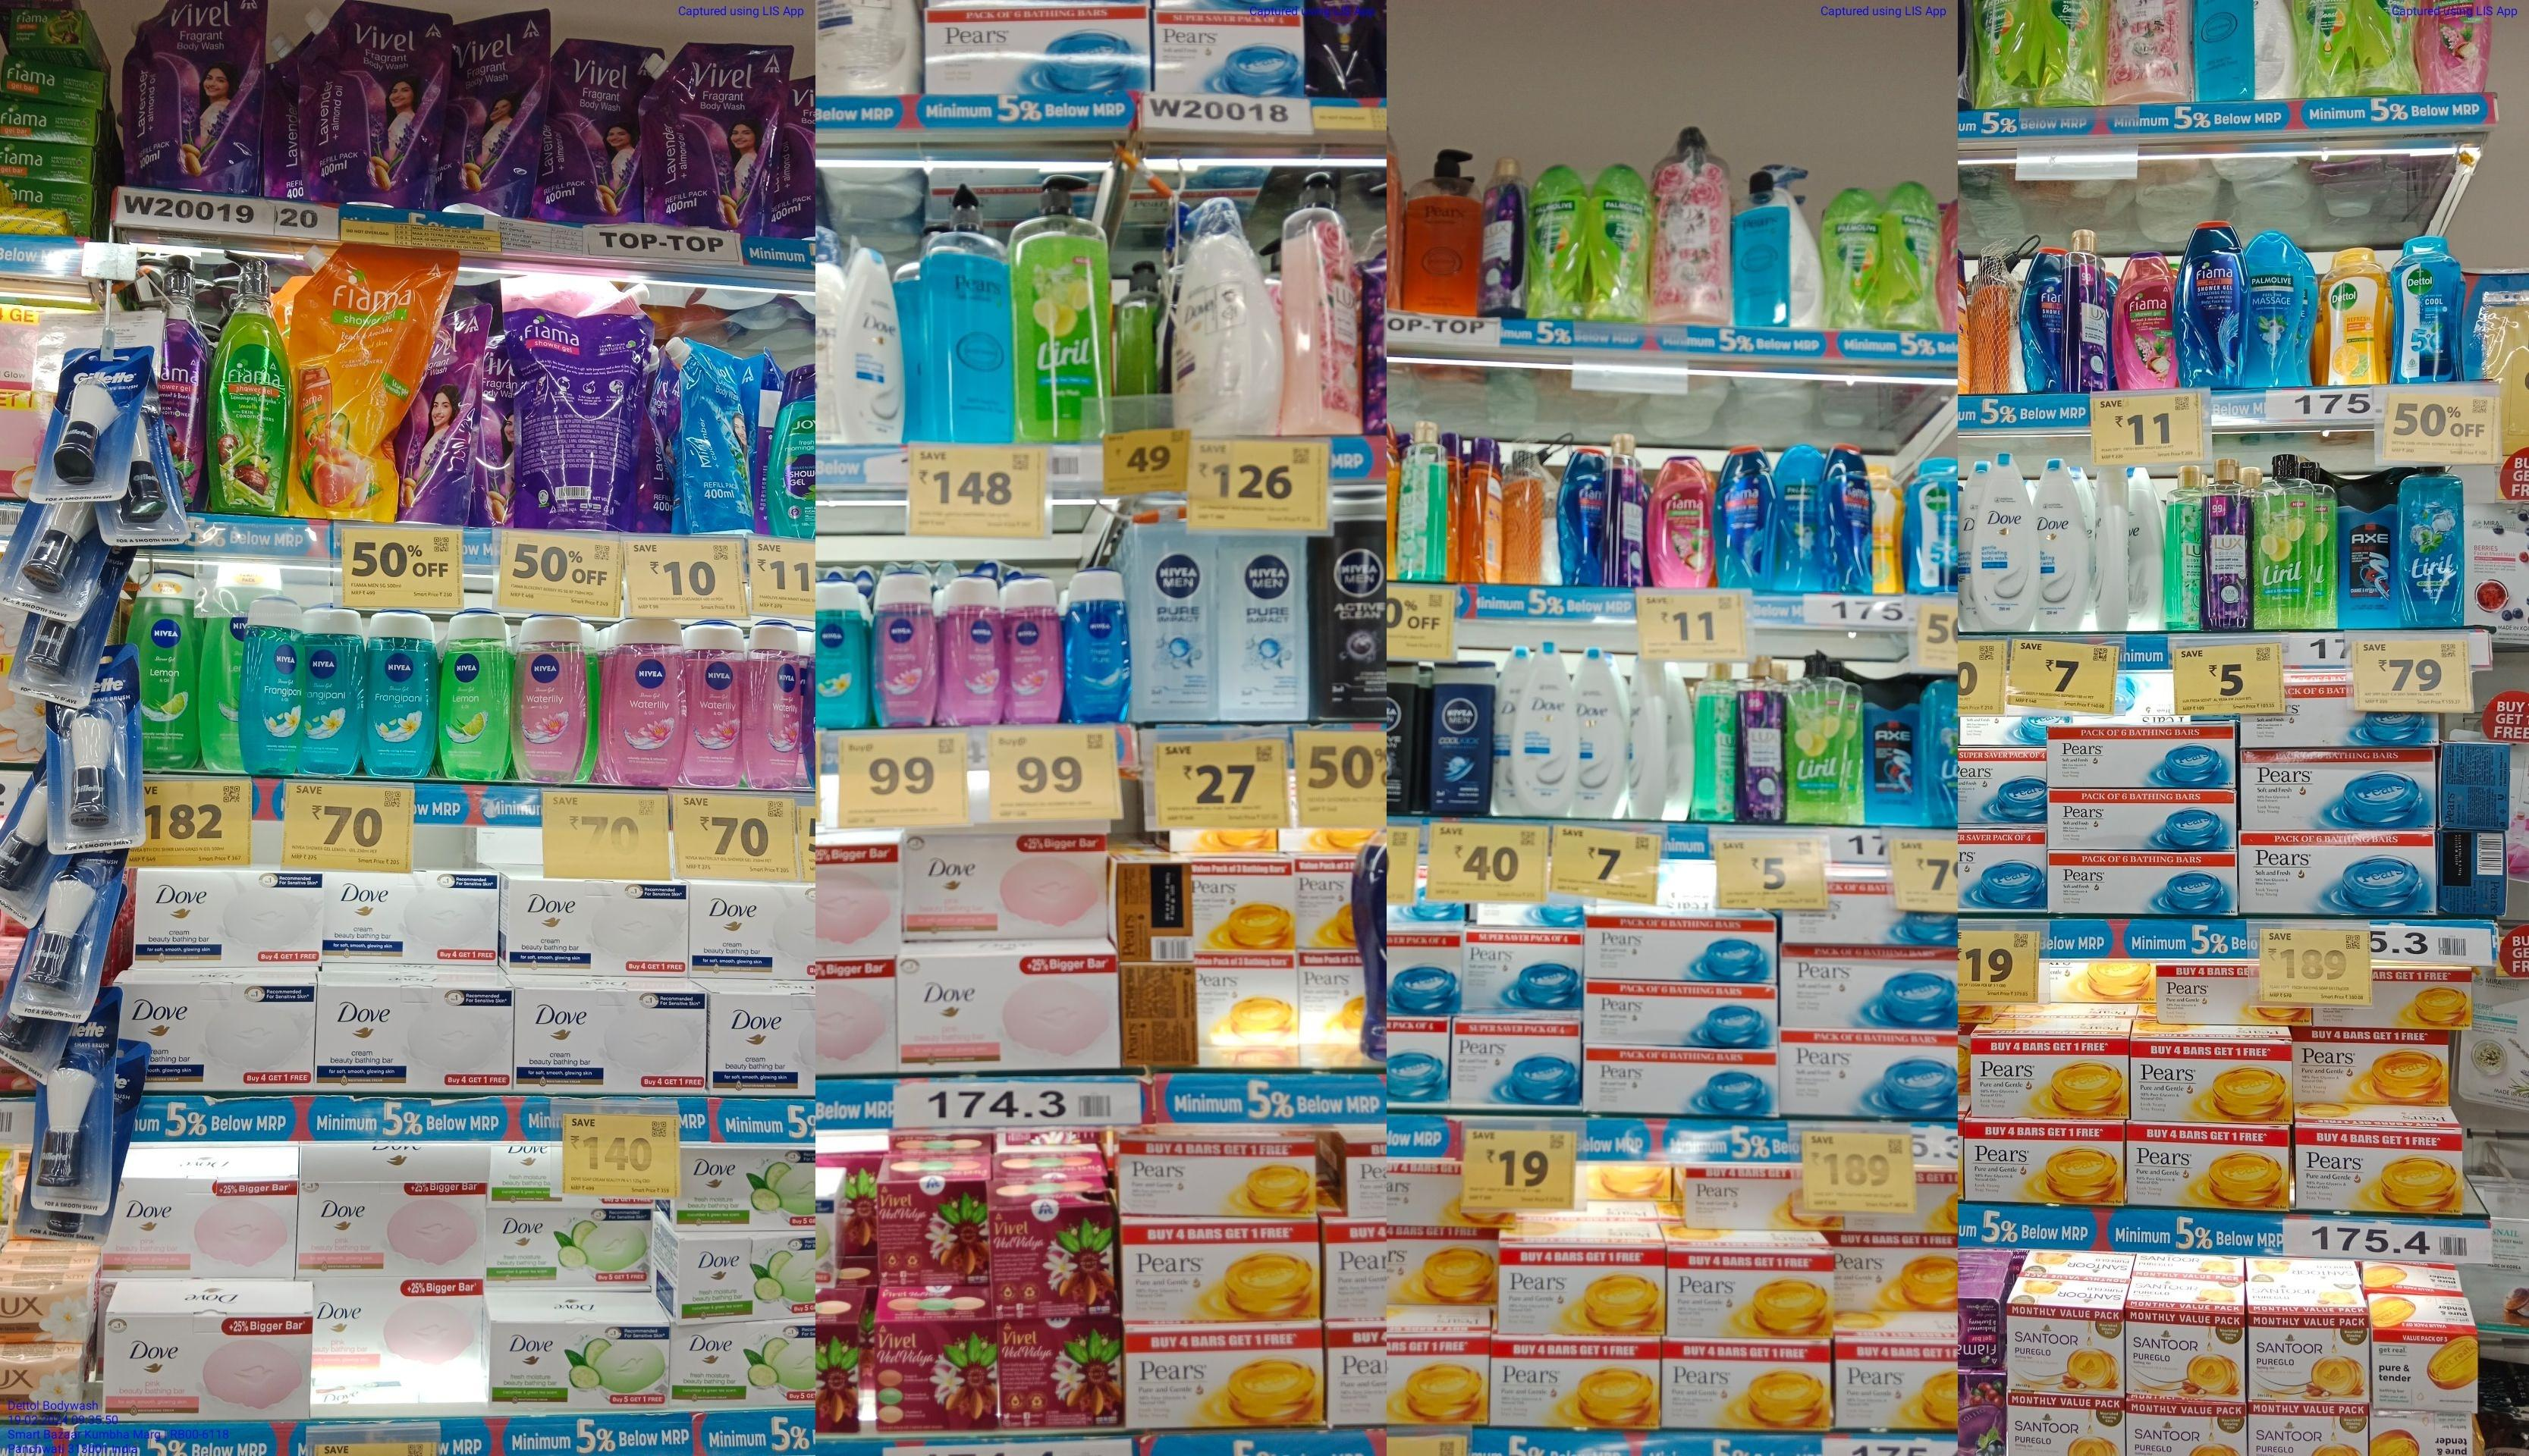Dettol_Bodywash_Cool: (2392, 235, 2460, 384), (1902, 457, 1956, 592)
Dettol_Bodywash_Refresh: (2321, 247, 2387, 386)
Dove_Gentle_Exfoliating_Body_Wash_250ML: (1971, 453, 2039, 631), (1509, 641, 1577, 813), (2041, 453, 2088, 632)
Fiama_Shower_Gel_Patchouli_and_Macadamia_250ML: (1647, 457, 1713, 587), (2114, 250, 2175, 389)
Liril_Cooling_Mint_Body_Wash_250ML: (2397, 464, 2465, 629)
Liril_Lime_and_Tea_Tree_Oil_Body_Wash_250ML: (2255, 453, 2312, 631), (1786, 655, 1845, 822)
Lux_Black_Orchid_Scent_and_Juniper_Oil_Body_Wash_245ML: (2206, 457, 2249, 627), (1739, 662, 1784, 825), (1478, 158, 1522, 316)
Lux_Body_Wash_Skin_Detox_Freesia_Scent_and_Alove_Vera_245ML: (1398, 420, 1449, 582), (2163, 460, 2202, 634), (1695, 665, 1735, 824)
Nivea_Shower_Gel_Frangipani_and_Oil_250ML: (241, 596, 304, 778), (368, 613, 436, 780), (306, 610, 363, 777), (815, 580, 865, 728)
Nivea_Shower_Gel_Lemon_and_Oil_250ML: (441, 610, 511, 784), (137, 570, 195, 768)
Nivea_Shower_Gel_Waterlily_and_Oil_250ML: (608, 619, 686, 785), (516, 617, 584, 782), (874, 573, 938, 730), (686, 619, 743, 787), (1004, 577, 1065, 725), (943, 577, 1002, 728), (749, 622, 799, 789)
Palmolive_Aroma_Moments_Feel_The_Massage_Shower_Gel_250ML: (2244, 231, 2301, 389)
Palmolive_Aroma_Morning_Tonic_Shower_Gel_250ML: (1525, 163, 1588, 320), (1883, 179, 1944, 330), (1591, 167, 1645, 323), (1822, 189, 1878, 330)
